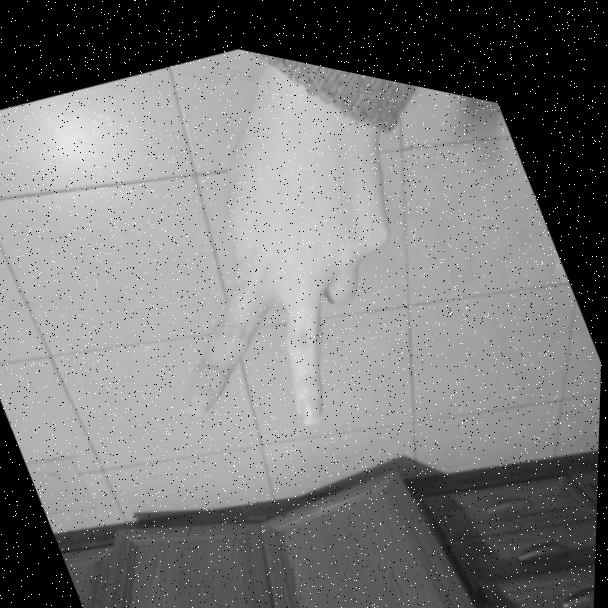two: (78, 52, 457, 489)
